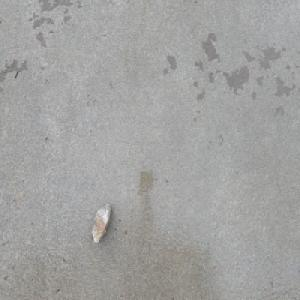Rock: (91, 201, 111, 246)
